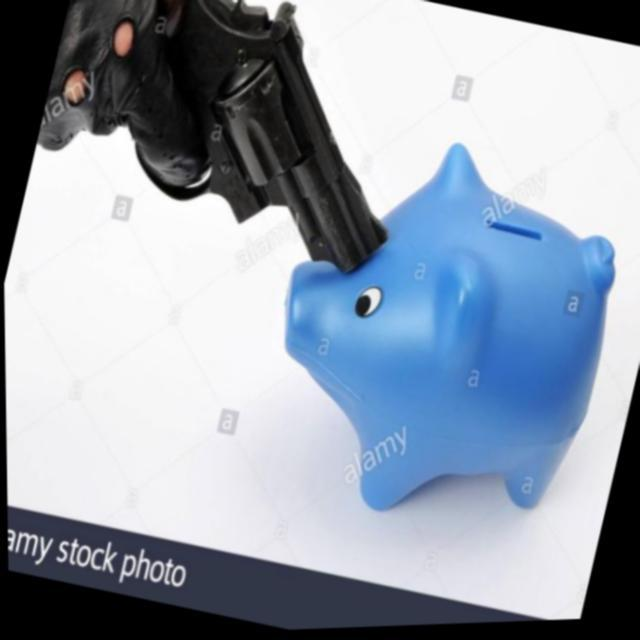weapon: (71, 0, 448, 303)
